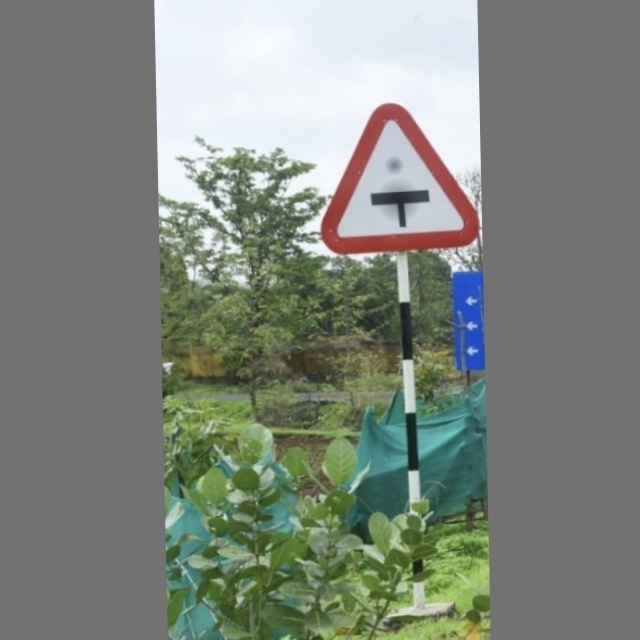T_Intersection: (326, 100, 472, 248)
